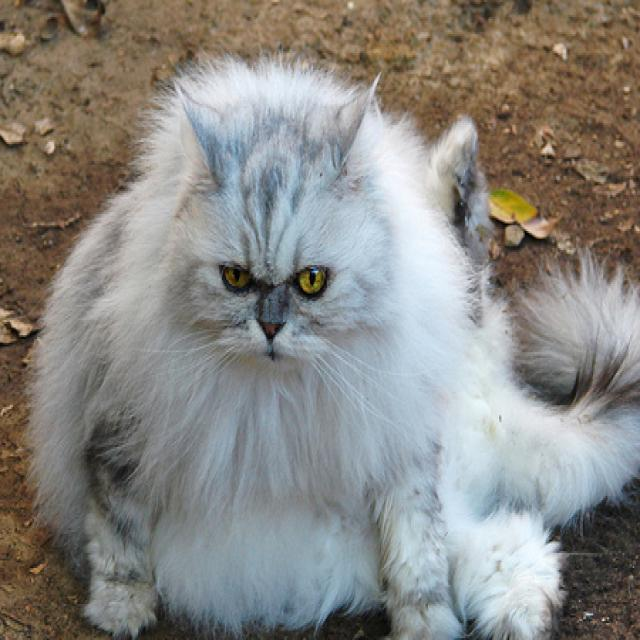Persian: (21, 51, 640, 640)
